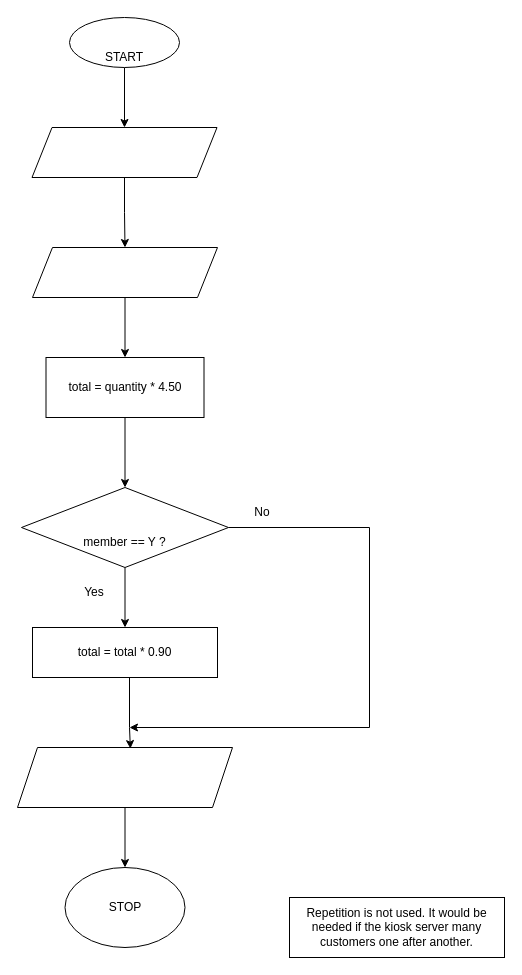
The diagram is 522 pixels wide and 975 high, and some of its shapes have lost their labels. Each missing label, with the centre of its shape:
Display total: point 124,777
Read member (Y/N): point 125,272
Read quantity: point 124,152
